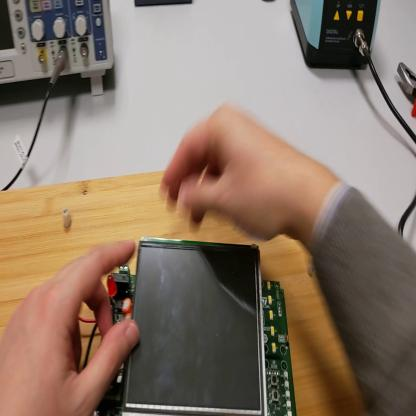hand: (2, 240, 141, 416), (162, 104, 302, 240)
low voltage board: (83, 236, 297, 416)
oscilloscope: (2, 1, 116, 100)
pliers: (398, 60, 415, 119)
welder station: (290, 1, 381, 69)
working area: (1, 170, 366, 414)
